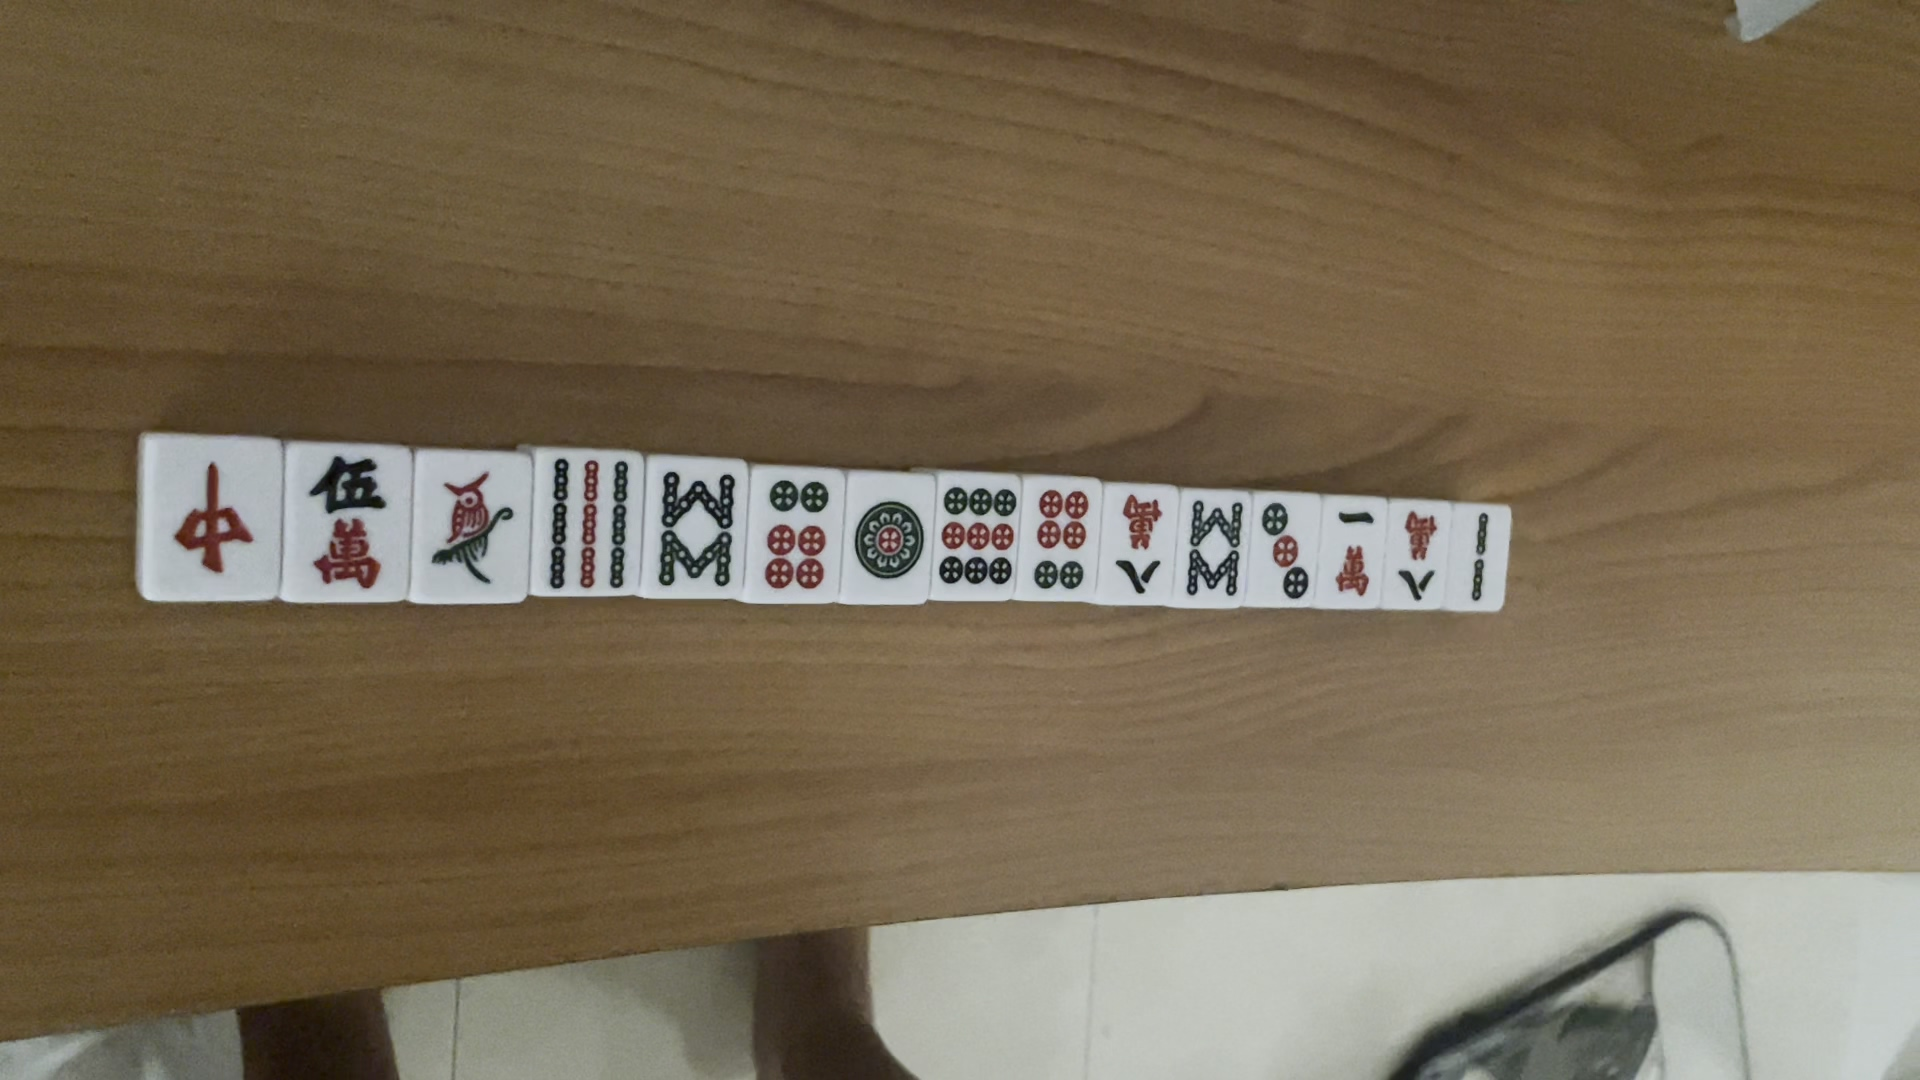b-1: (429, 463, 524, 593)
b-2: (1460, 508, 1507, 607)
b-8: (647, 463, 738, 596), (1180, 498, 1244, 604)
b-9: (541, 454, 638, 597)
c-1: (1323, 506, 1389, 596)
c-5: (301, 450, 393, 593)
c-8: (1391, 505, 1448, 605), (1113, 488, 1167, 591)
d-1: (848, 491, 932, 585)
d-3: (1258, 496, 1320, 608)
d-6: (760, 469, 831, 593), (1033, 487, 1098, 596)
d-9: (934, 480, 1019, 592)
honors-red: (161, 454, 258, 583)
